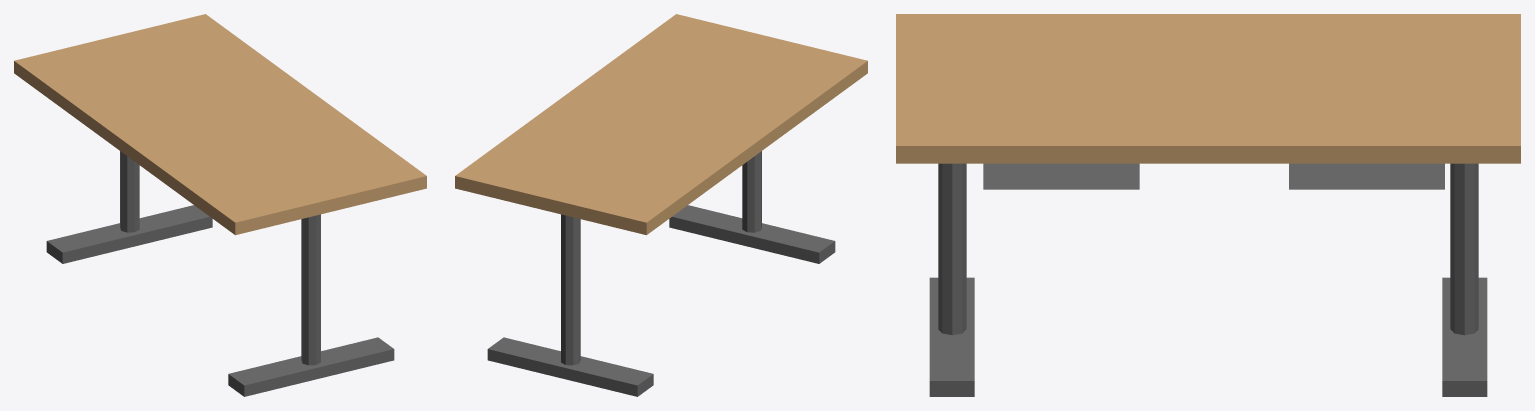
The model's file is Desk.fbx.
3 renders of one model, left to right at view 1: azimuth 30°, elevation 25°; view 2: azimuth 150°, elevation 25°; view 3: azimuth 270°, elevation 25°, orthographic. The views are drawn at different scales.
Parts seen in each view (by area): view 1: Desk; view 2: Desk; view 3: Desk.
Boxes of the visible parts, box(x1,y1,x2,y2) form: Desk: box(14, 14, 426, 396); Desk: box(455, 14, 867, 396); Desk: box(896, 14, 1520, 396).
Bounding box in the file's own units: 0.8 × 0.75 × 1.6.
